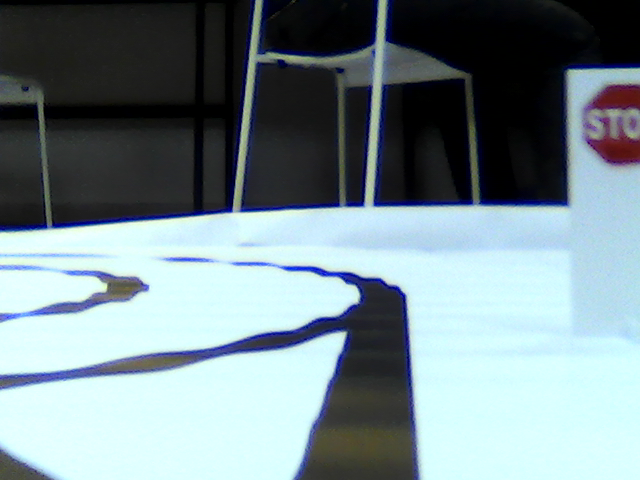Stop: (578, 81, 640, 170)
